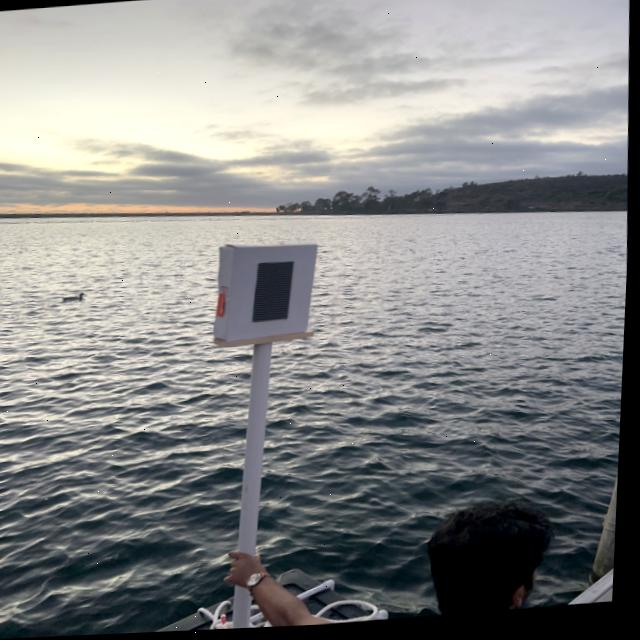led: (232, 248, 308, 343)
